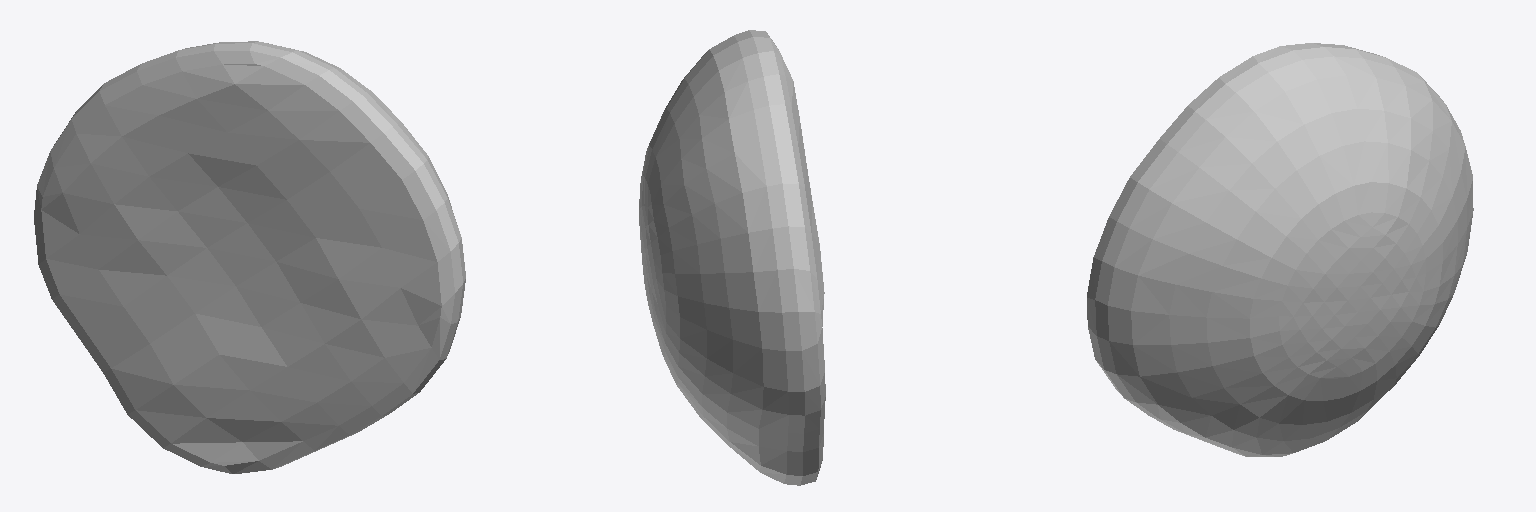
Rendered from bun.obj.
3 views of the same model, side by side, from view 1: azimuth 30°, elevation 25°; view 2: azimuth 150°, elevation 25°; view 3: azimuth 270°, elevation 25° (orthographic).
Parts seen in each view (by area): view 1: dynamic; view 2: dynamic; view 3: dynamic.
Part boxes in pixels (x1,y1,x2,y2): dynamic: (34,41,465,473); dynamic: (639,30,825,485); dynamic: (1087,43,1473,456).
Size of the model in its own units: 1.55 by 2.25 by 1.91.